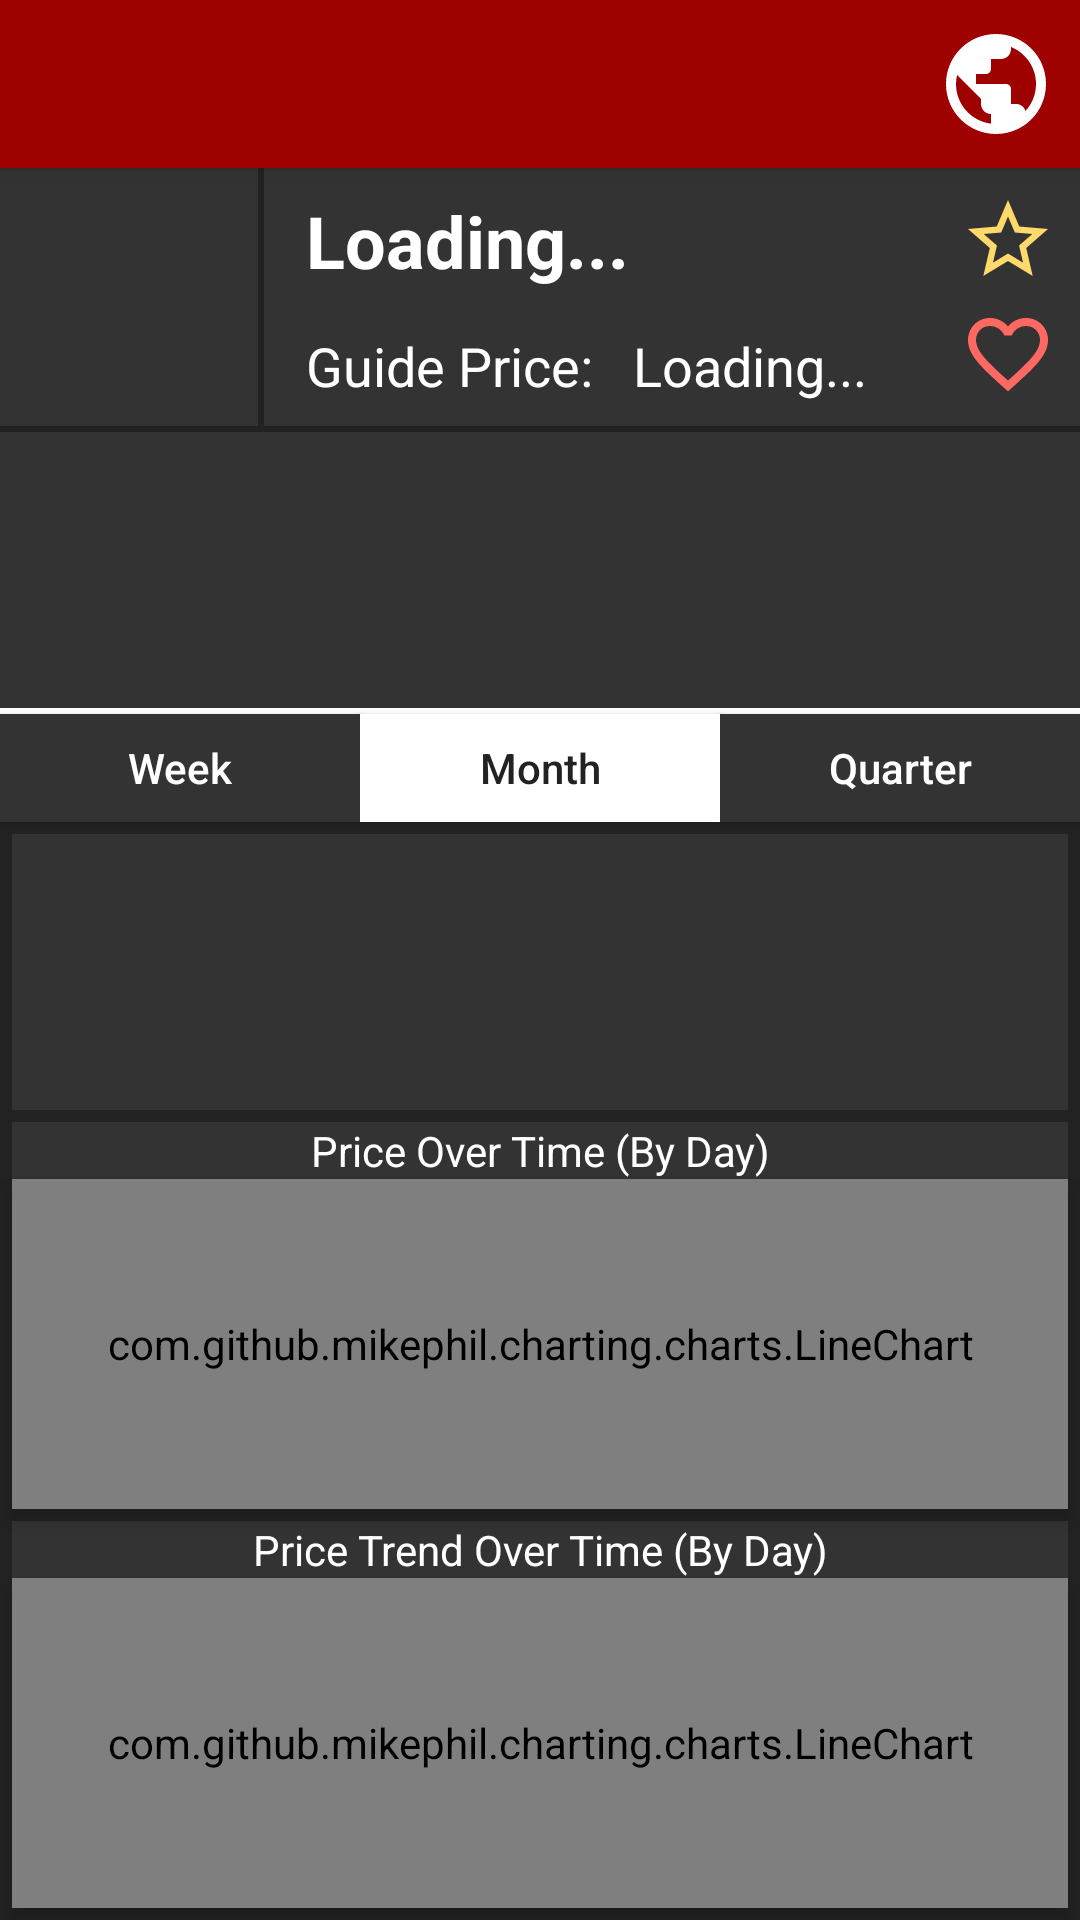

Icons on this 1080*1920 Android screen, each with its box as (x1, y1, x2, y2):
favorite deselected: (968, 318, 1048, 391)
wiki: (946, 34, 1046, 134)
